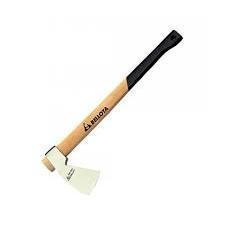machado: (42, 30, 182, 193)
